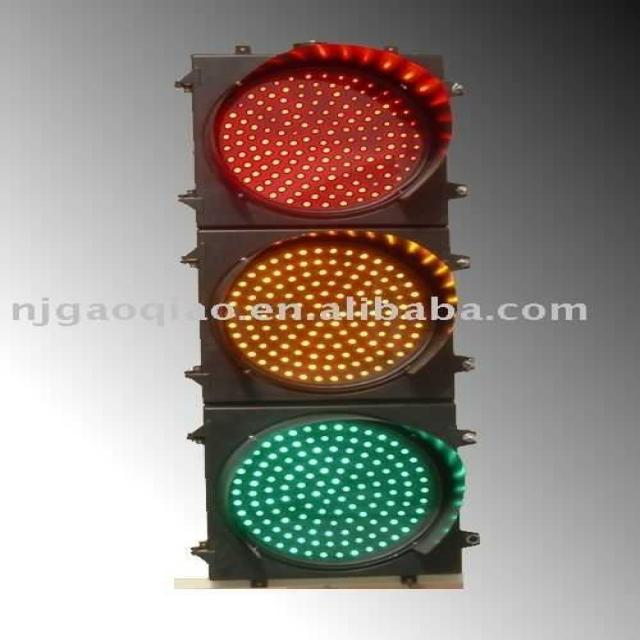Traffic Light -Green-: (174, 406, 517, 605)
Traffic Light -Red-: (178, 38, 495, 217)
Traffic Light -Yellow-: (174, 225, 495, 398)
